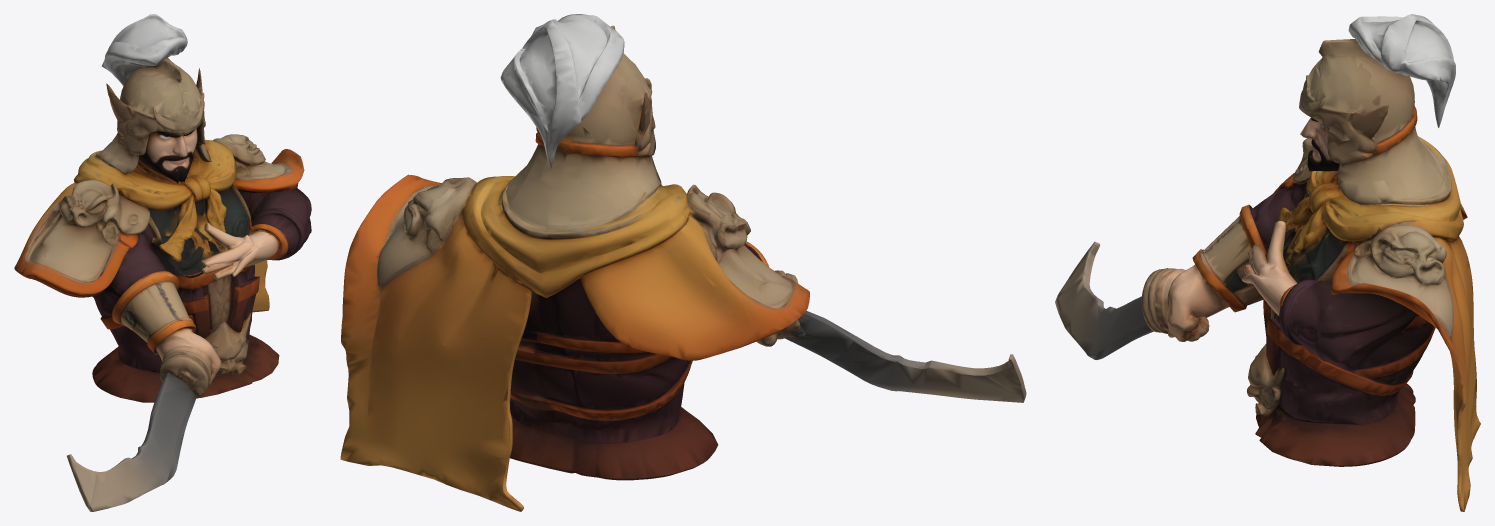
Rendered from character.glb.
3 renders of one model, left to right at view 1: azimuth 30°, elevation 25°; view 2: azimuth 150°, elevation 25°; view 3: azimuth 270°, elevation 25°, orthographic. The views are drawn at different scales.
Visible parts, largest first — view 1: node_0; view 2: node_0; view 3: node_0.
Boxes of the visible parts, x1,y1,x2,y2 form: node_0: (14,14,311,511); node_0: (340,14,1026,511); node_0: (1055,14,1480,511).
Size of the model in its own units: 0.7661 by 0.715 by 0.6593.
Materials: 1 (1 with a texture image).
